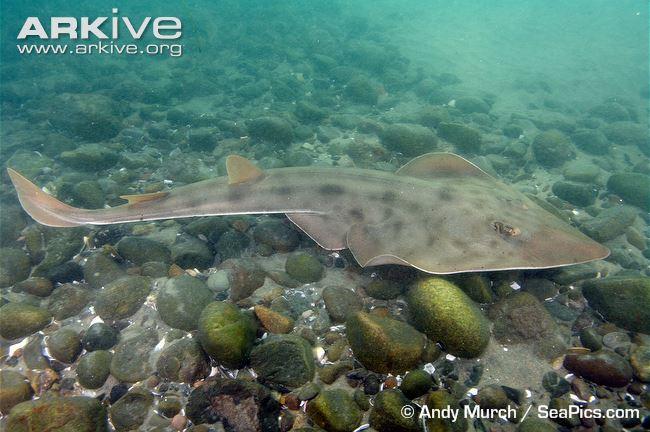shark: (6, 119, 629, 294)
